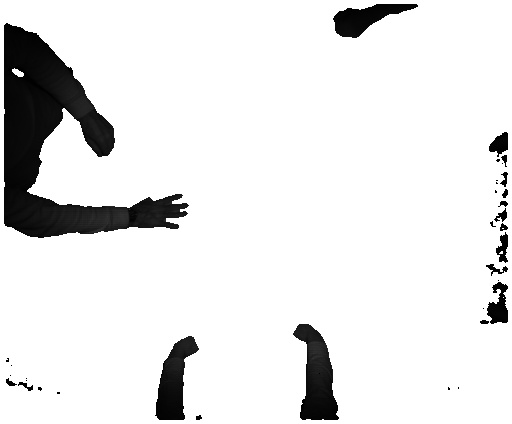fist: (79, 120, 119, 159), (288, 320, 327, 348), (160, 336, 199, 360)
hand: (131, 192, 191, 231)
